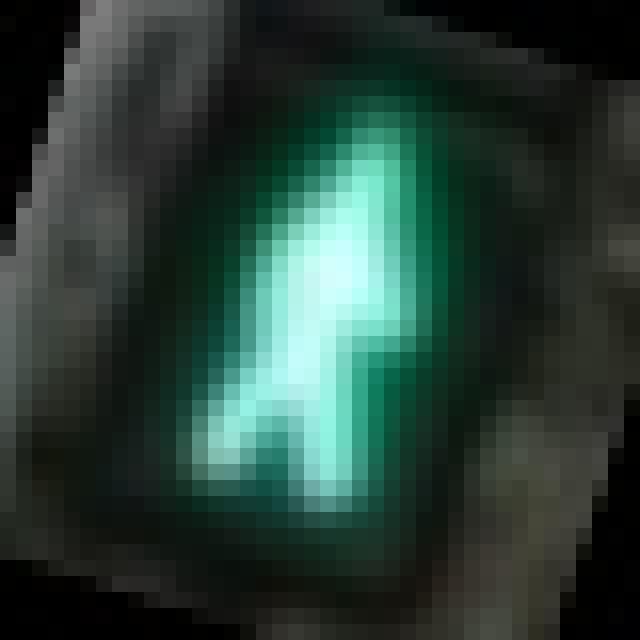geen-crossing: (80, 32, 512, 544)
